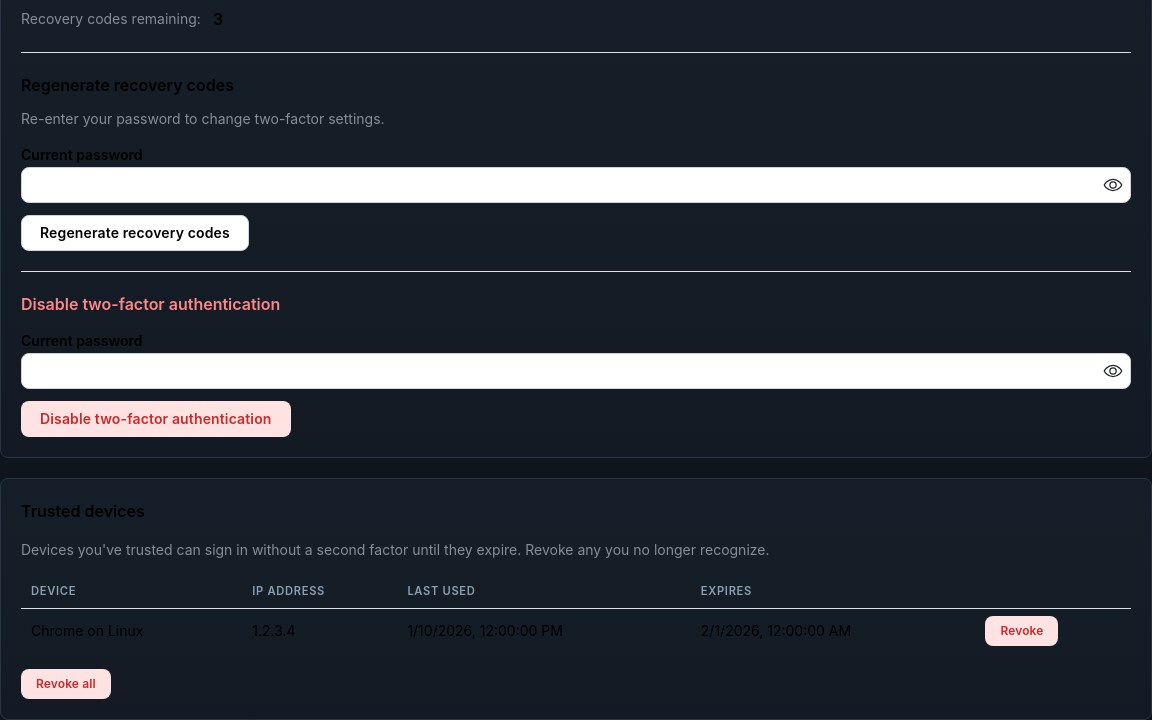
Test case: MfaPanel — trusted devices › shows trusted devices section when enabled
(page scrolled)
Check: the text "Trusted devices" is shown, box left=21, top=501, right=145, bottom=521
Check: the text "Chrome on Linux" is shown, box left=21, top=608, right=242, bottom=653
// Click revoke button for d1
Click the button with test id "trusted-device-revoke-d1": (1022, 631) left=985, top=616, right=1058, bottom=646
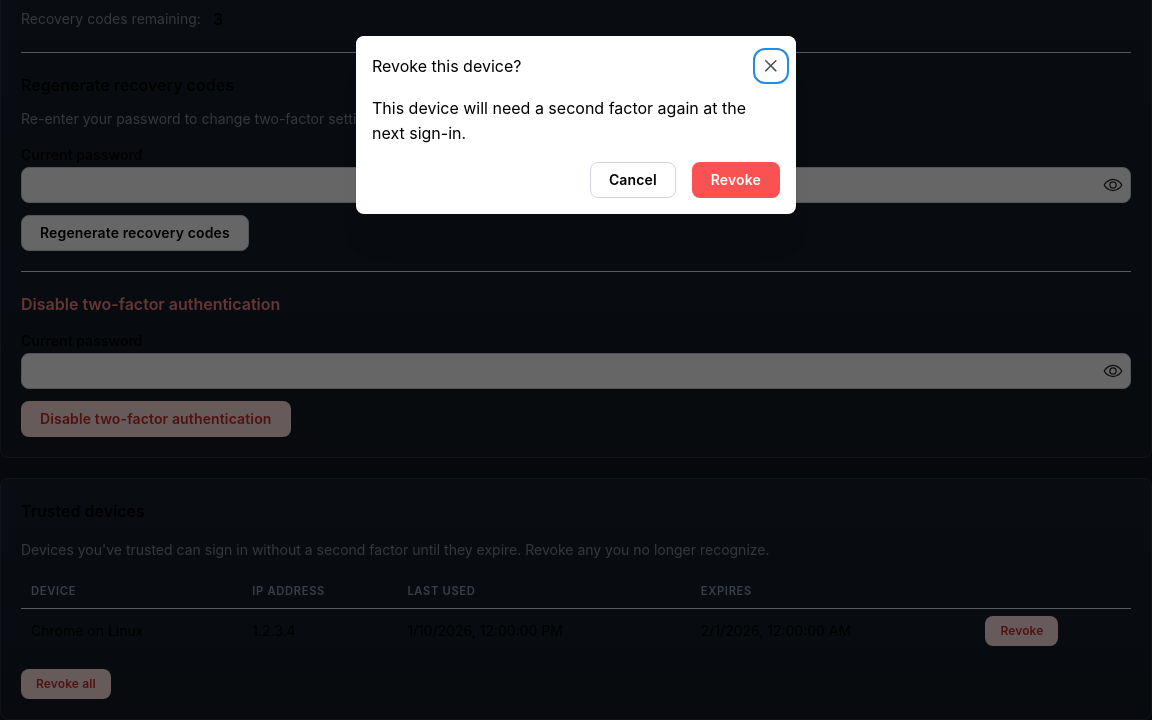
// Confirm in the modal
Click the button with test id "confirm-ok": (736, 180) left=692, top=162, right=780, bottom=198
(page scrolled)
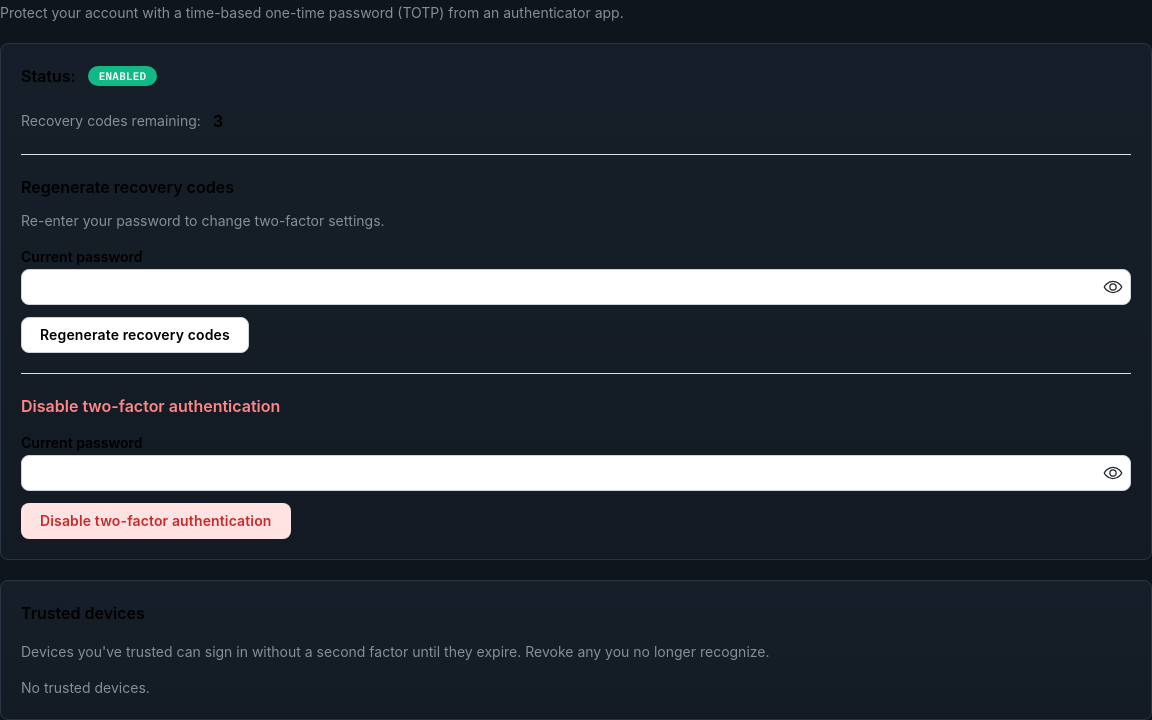
Check: the text "No trusted devices." is shown, box left=21, top=679, right=150, bottom=696
